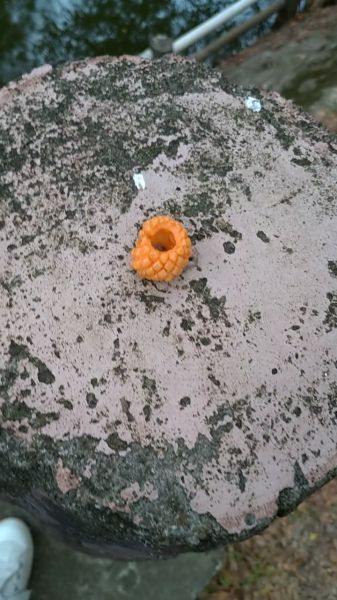eggs: (126, 208, 197, 285)
